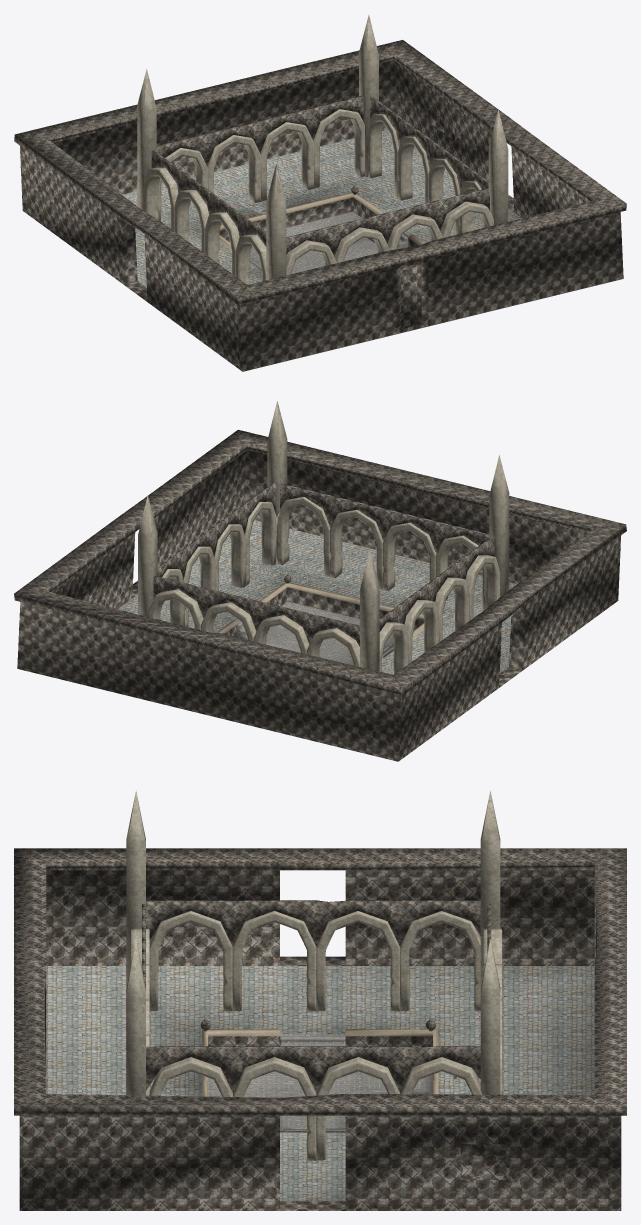
The picture shows the model from 3 angles, top to bottom: view 1: azimuth 30°, elevation 25°; view 2: azimuth 150°, elevation 25°; view 3: azimuth 270°, elevation 25°; orthographic projection. The views are drawn at different scales.
Parts seen in each view (by area): view 1: Plane; view 2: Plane; view 3: Plane.
Part boxes in pixels (bbox=[...]): Plane: bbox=[14, 15, 626, 371]; Plane: bbox=[14, 401, 626, 761]; Plane: bbox=[14, 790, 626, 1210].
Bounding box in the file's own units: 22.93 × 9.8 × 22.88.
6 materials, 6 textured.
